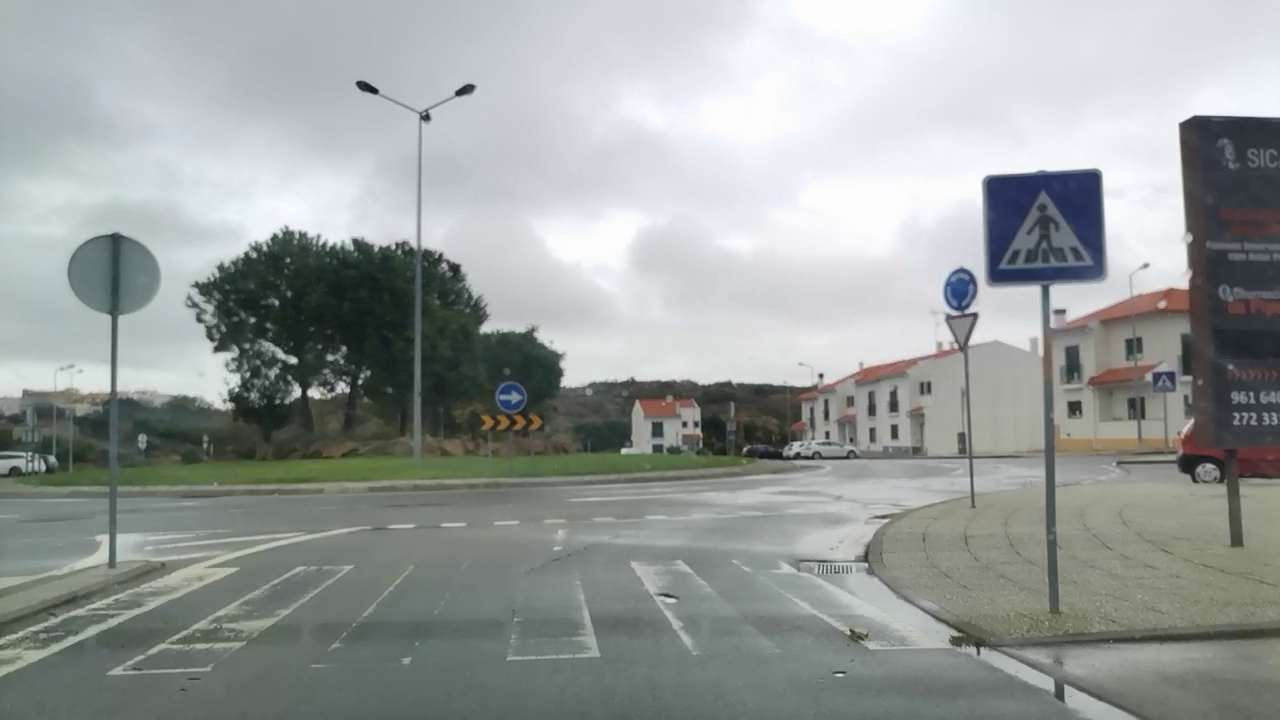Stairs: (0, 557, 956, 677)
